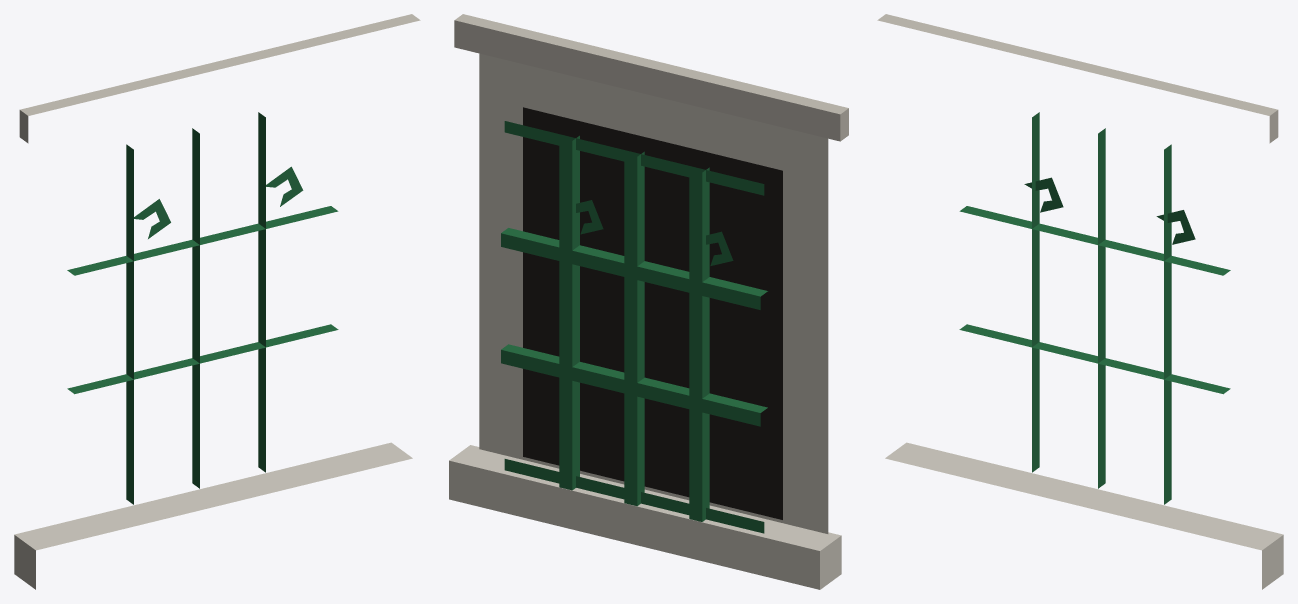
Rendered from window_grille_green.glb.
3 views of the same model, side by side, from view 1: azimuth 30°, elevation 25°; view 2: azimuth 150°, elevation 25°; view 3: azimuth 330°, elevation 25° (orthographic).
Parts seen in each view (by area): view 1: window_grille_green; view 2: window_grille_green; view 3: window_grille_green.
Part boxes in pixels (x1=…): window_grille_green: x1=14, y1=14, x2=420, y2=589; window_grille_green: x1=449, y1=14, x2=848, y2=589; window_grille_green: x1=877, y1=14, x2=1283, y2=589.
Size of the model in its own units: 1.04 by 1.21 by 0.1175.
